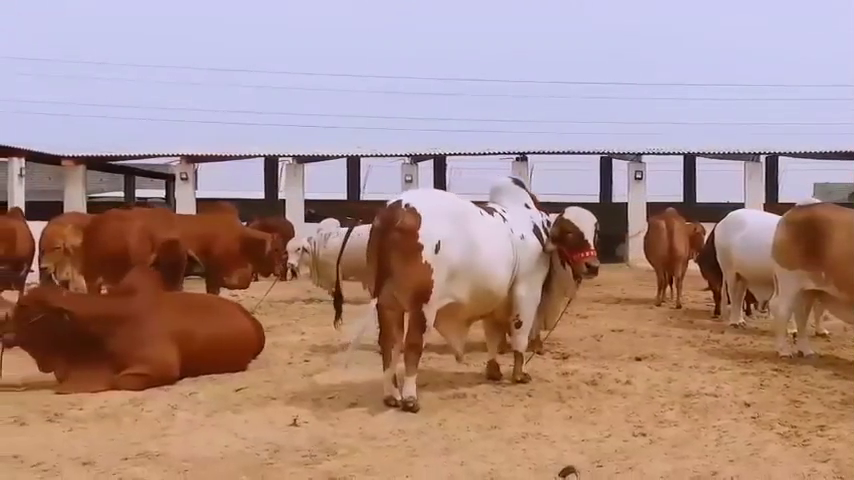bo: (318, 161, 614, 405), (3, 266, 285, 404), (702, 192, 838, 341), (757, 189, 854, 379), (157, 192, 292, 315), (79, 190, 210, 312), (274, 201, 377, 309), (633, 187, 704, 323), (27, 192, 107, 302), (1, 200, 37, 299)
